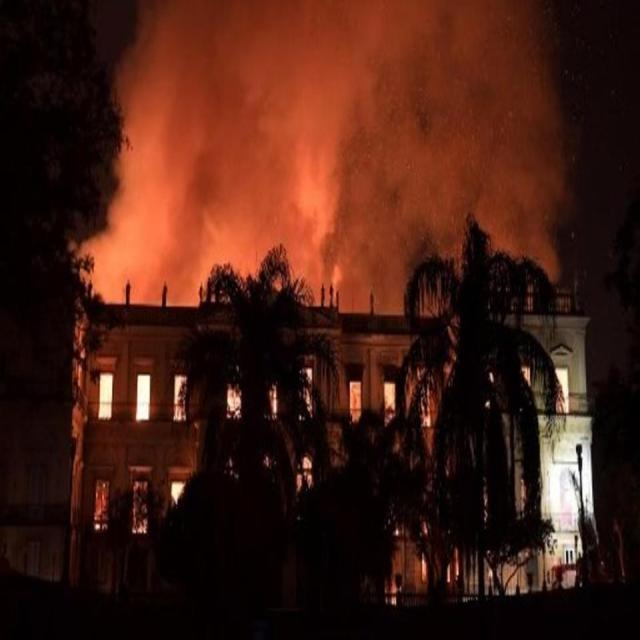Fire: (92, 370, 116, 430), (172, 368, 194, 430), (135, 372, 154, 433), (381, 382, 406, 425), (348, 374, 368, 426), (94, 478, 112, 535), (170, 476, 193, 512)
Smoke: (75, 0, 568, 298)
